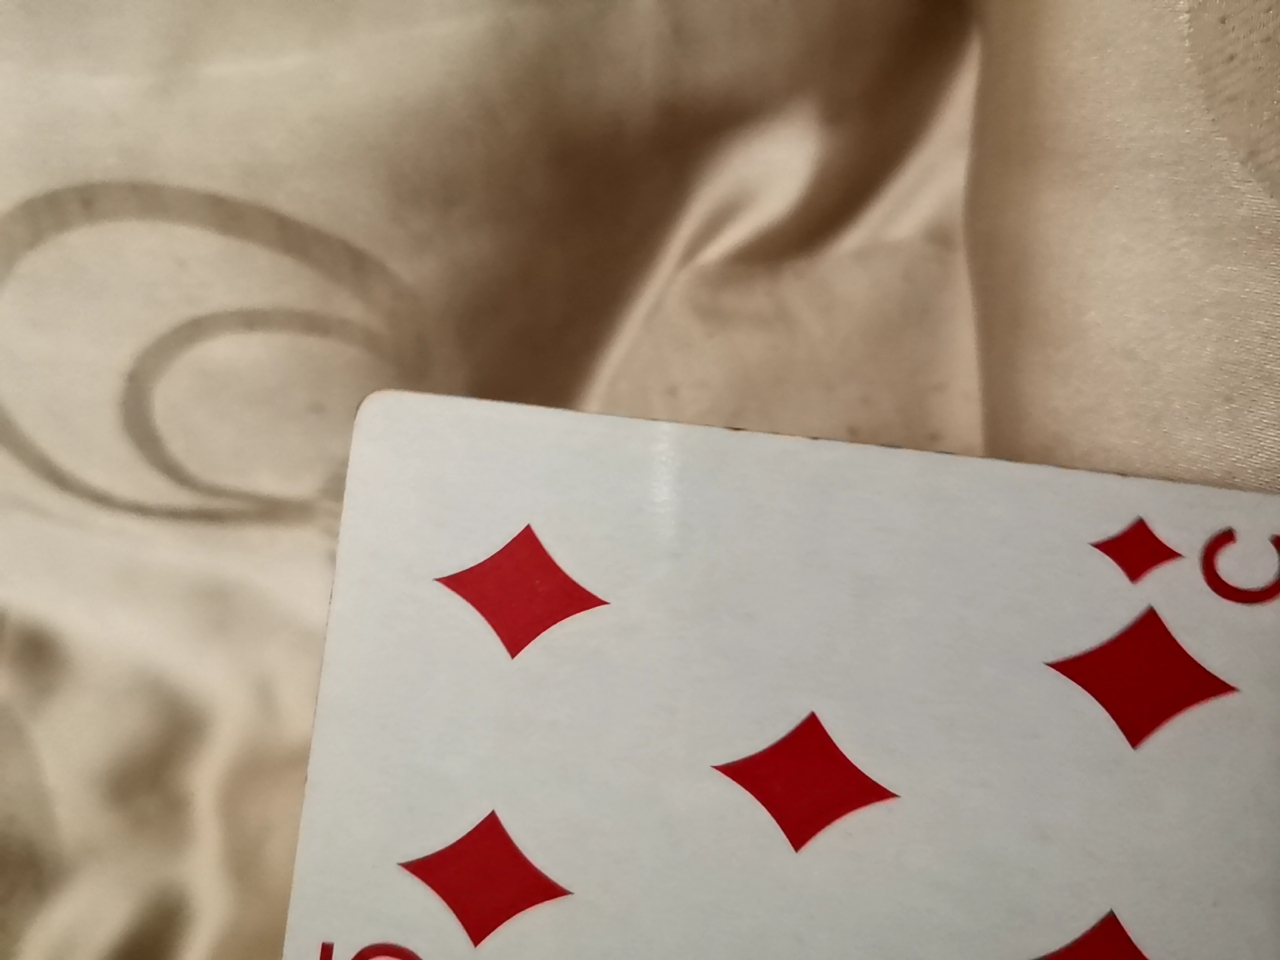fk 5: (248, 376, 1279, 958)
